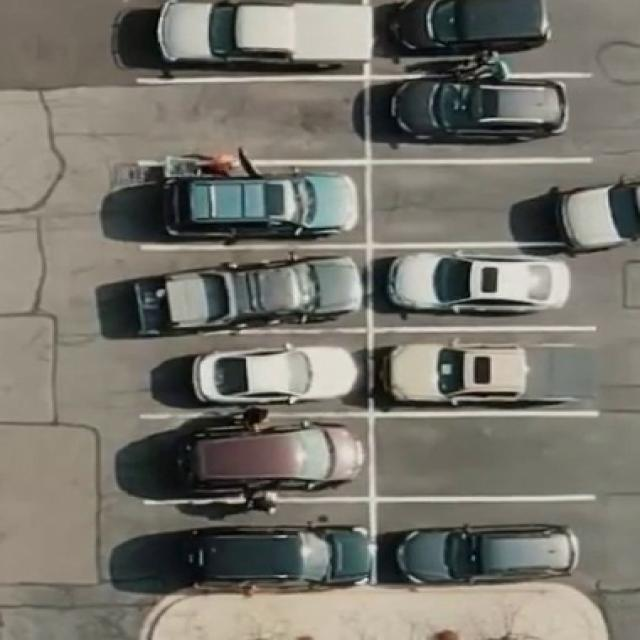empty: (380, 423, 590, 492), (142, 86, 352, 151)
notEmpty: (148, 510, 358, 585), (380, 509, 592, 581), (380, 337, 596, 406), (144, 424, 367, 490), (379, 253, 593, 320), (138, 341, 355, 407), (145, 256, 359, 322), (146, 6, 358, 72), (147, 172, 359, 237), (378, 87, 583, 152), (377, 171, 576, 236), (386, 7, 585, 67)
